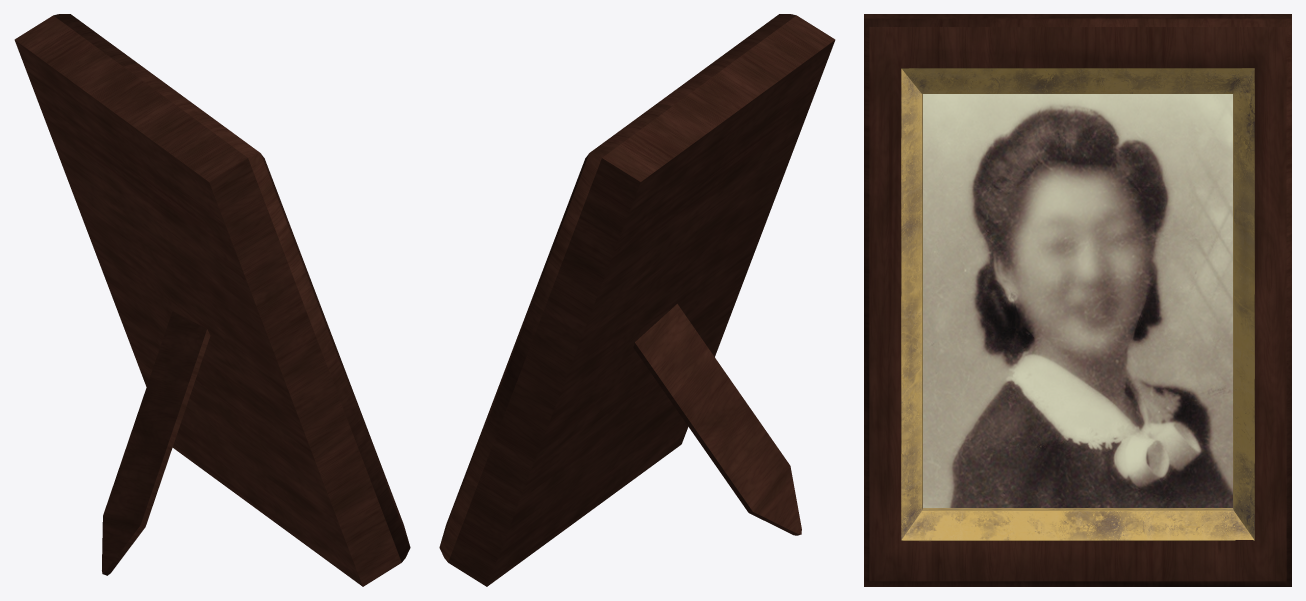
The model's file is frame2_1_young mary.FBX.
3 renders of one model, left to right at view 1: azimuth 30°, elevation 25°; view 2: azimuth 150°, elevation 25°; view 3: azimuth 270°, elevation 25°, orthographic. The views are drawn at different scales.
Visible parts, largest first — view 1: frame005; view 2: frame005; view 3: frame005.
Boxes of the visible parts, x1,y1,x2,y2 form: frame005: (14, 14, 410, 586); frame005: (439, 14, 835, 586); frame005: (864, 14, 1291, 586).
Size of the model in its own units: 14.64 by 26.61 by 20.53.
1 material, 1 textured.
